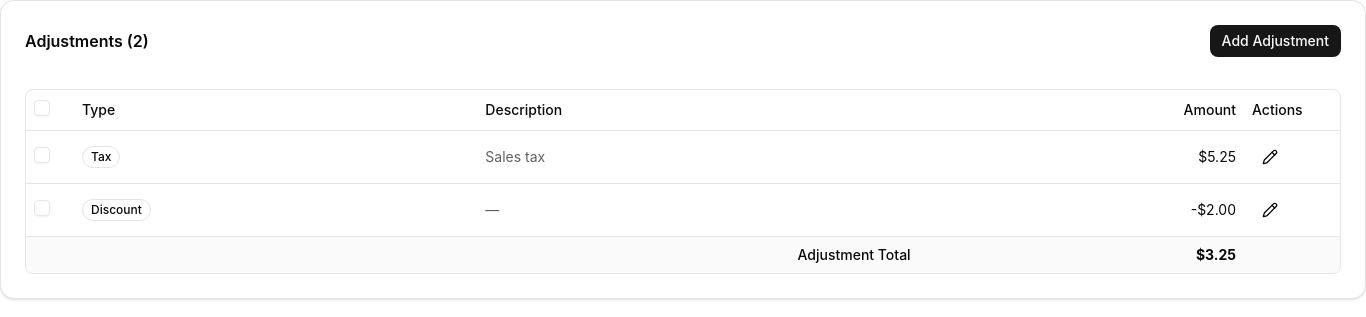
Test case: AdjustmentsCard › select-all checkbox selects and deselects all adjustments
Click the checkbox named "Select all adjustments".
click(42, 108)  # box [34,100,50,116]
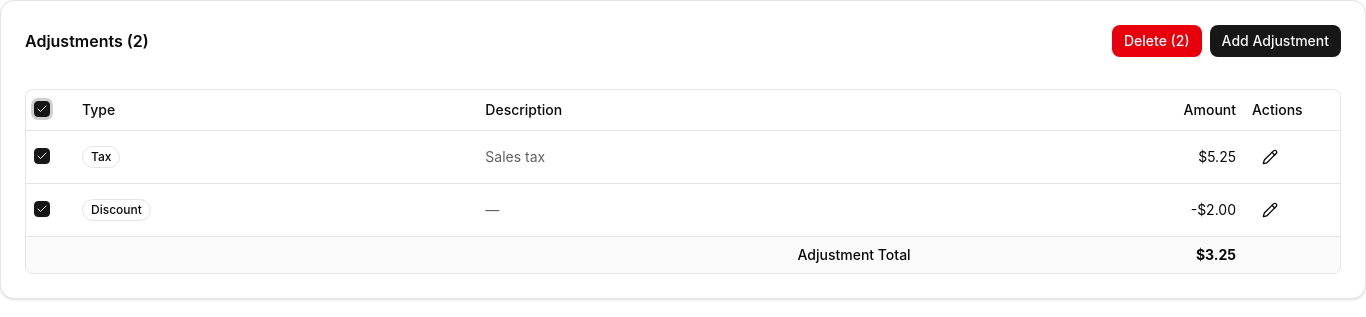
Check: the checkbox named "Select all adjustments" is checked
Check: the checkbox named "Select Tax adjustment" is checked, box [34,148,50,164]
Check: the checkbox named "Select Discount adjustment" is checked, box [34,200,50,216]
# Deselect all
Click the checkbox named "Select all adjustments".
click(42, 109)  # box [34,101,50,117]
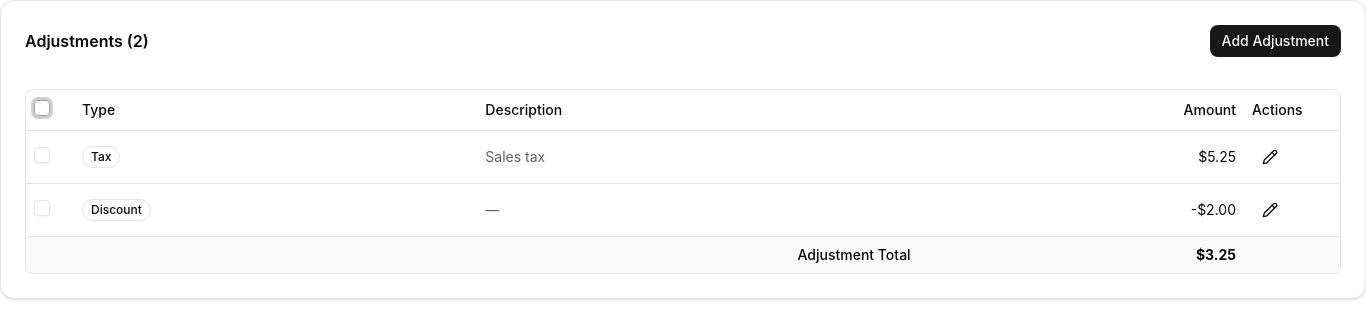
Check: the checkbox named "Select all adjustments" is not checked, box [34,100,50,116]
Check: the checkbox named "Select Tax adjustment" is not checked, box [34,146,50,162]
Check: the checkbox named "Select Discount adjustment" is not checked, box [34,200,50,216]
